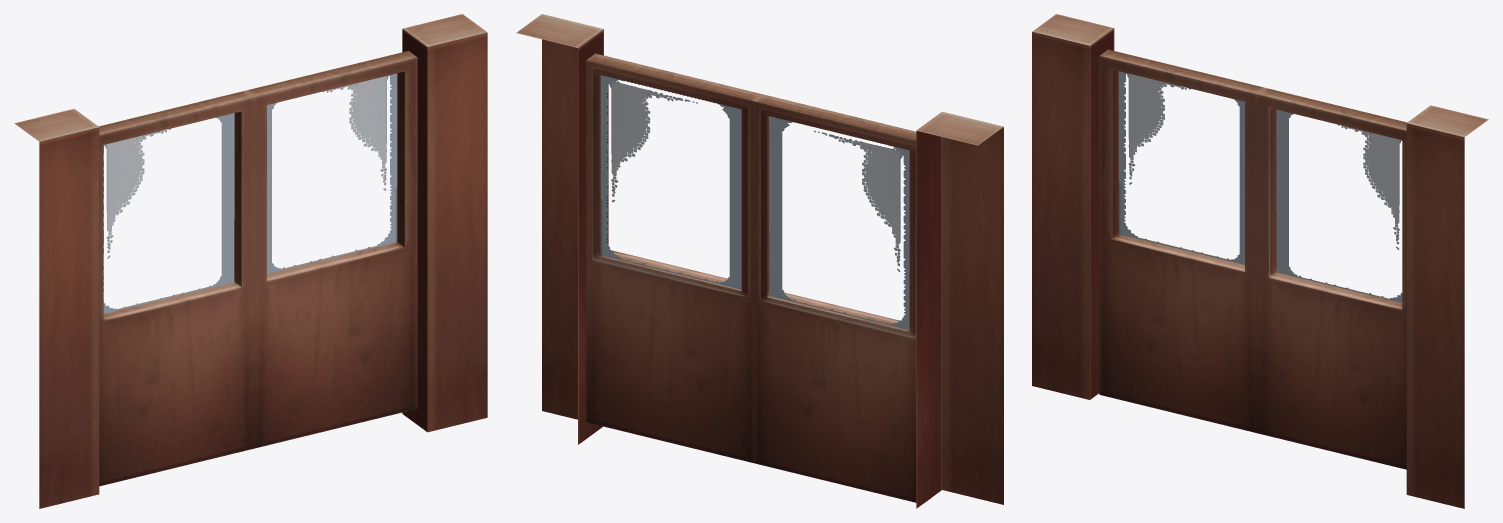
File: K1_olddoor.FBX
3 views of the same model, side by side, from view 1: azimuth 30°, elevation 25°; view 2: azimuth 150°, elevation 25°; view 3: azimuth 330°, elevation 25° (orthographic). The views are drawn at different scales.
Visible parts, largest first — view 1: olddoor_03, olddoor_02, olddoor_00, olddoor_01; view 2: olddoor_03, olddoor_02, olddoor_01, olddoor_00; view 3: olddoor_02, olddoor_03, olddoor_01, olddoor_00.
Boxes of the visible parts, x1,y1,x2,y2 form: olddoor_03: (245, 51, 417, 448); olddoor_02: (99, 91, 254, 486); olddoor_00: (402, 14, 487, 432); olddoor_01: (14, 109, 99, 508); olddoor_03: (586, 53, 763, 462); olddoor_02: (754, 94, 927, 502); olddoor_01: (916, 111, 1003, 508); olddoor_00: (516, 14, 603, 444); olddoor_02: (1099, 49, 1264, 432); olddoor_03: (1256, 88, 1406, 469); olddoor_01: (1032, 14, 1114, 399); olddoor_00: (1406, 105, 1488, 508).
Bounding box in the file's own units: 103 × 84.48 × 10.02.
